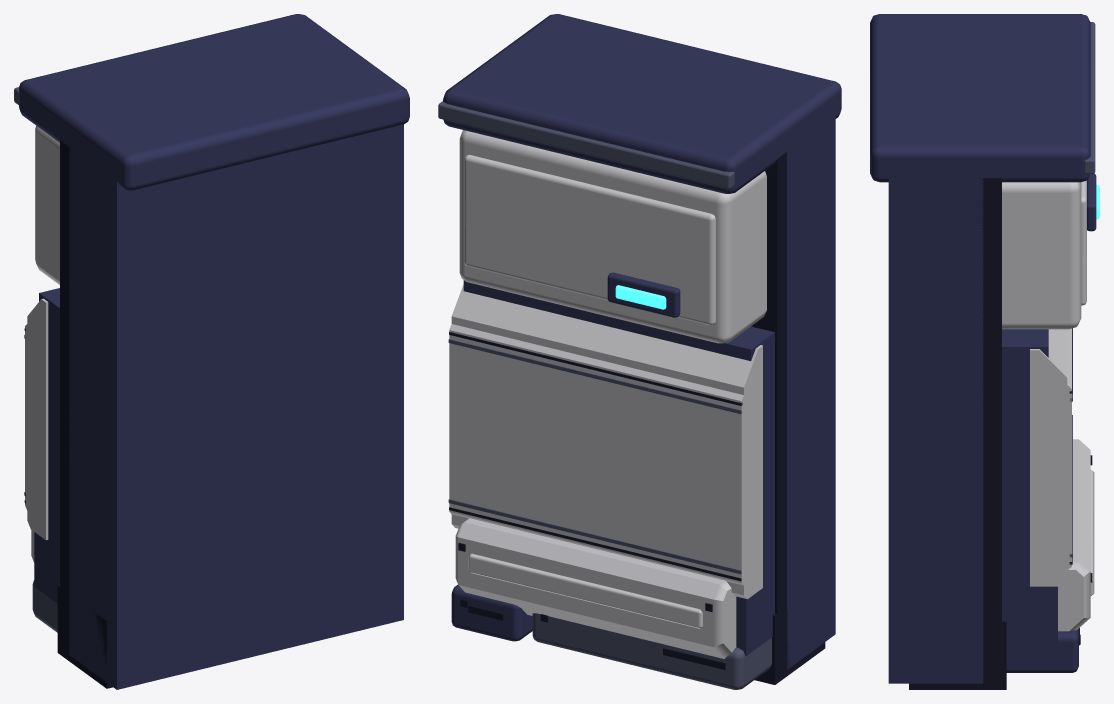
File: hull.bay.plate_large.canopy_sill.none.plate.w1.414.s2.k-1.25.t-0.95_0.42_1.3_1.85_0.7071.glb
3 views of the same model, side by side, from view 1: azimuth 30°, elevation 25°; view 2: azimuth 150°, elevation 25°; view 3: azimuth 270°, elevation 25° (orthographic). The views are drawn at different scales.
Parts seen in each view (by area): view 1: hull.bay.plate_large.canopy_sill.none.plate.w1.414.s2.k-1.25; view 2: hull.bay.plate_large.canopy_sill.none.plate.w1.414.s2.k-1.25; view 3: hull.bay.plate_large.canopy_sill.none.plate.w1.414.s2.k-1.25.
Part boxes in pixels (x1,y1,x2,y2): hull.bay.plate_large.canopy_sill.none.plate.w1.414.s2.k-1.25: (14, 14, 409, 689); hull.bay.plate_large.canopy_sill.none.plate.w1.414.s2.k-1.25: (438, 14, 841, 689); hull.bay.plate_large.canopy_sill.none.plate.w1.414.s2.k-1.25: (870, 14, 1099, 689).
Bounding box in the file's own units: 1.42 × 2.56 × 0.9871.
